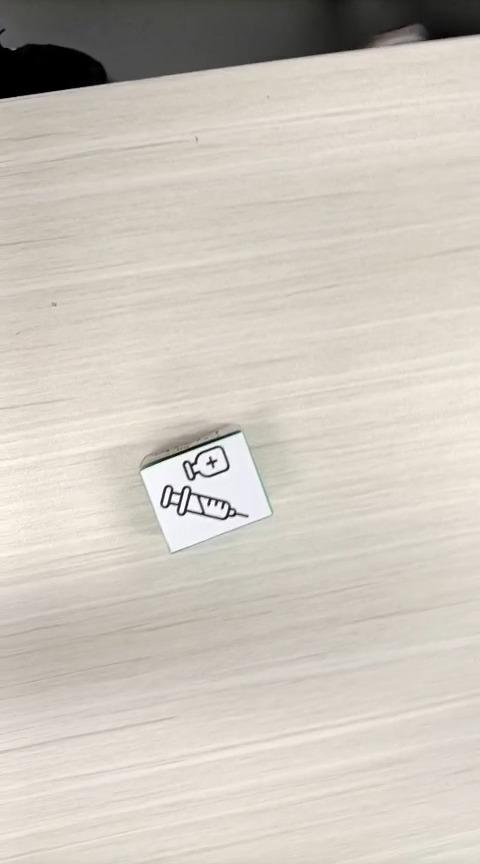antiseptic cream: (137, 421, 273, 554)
